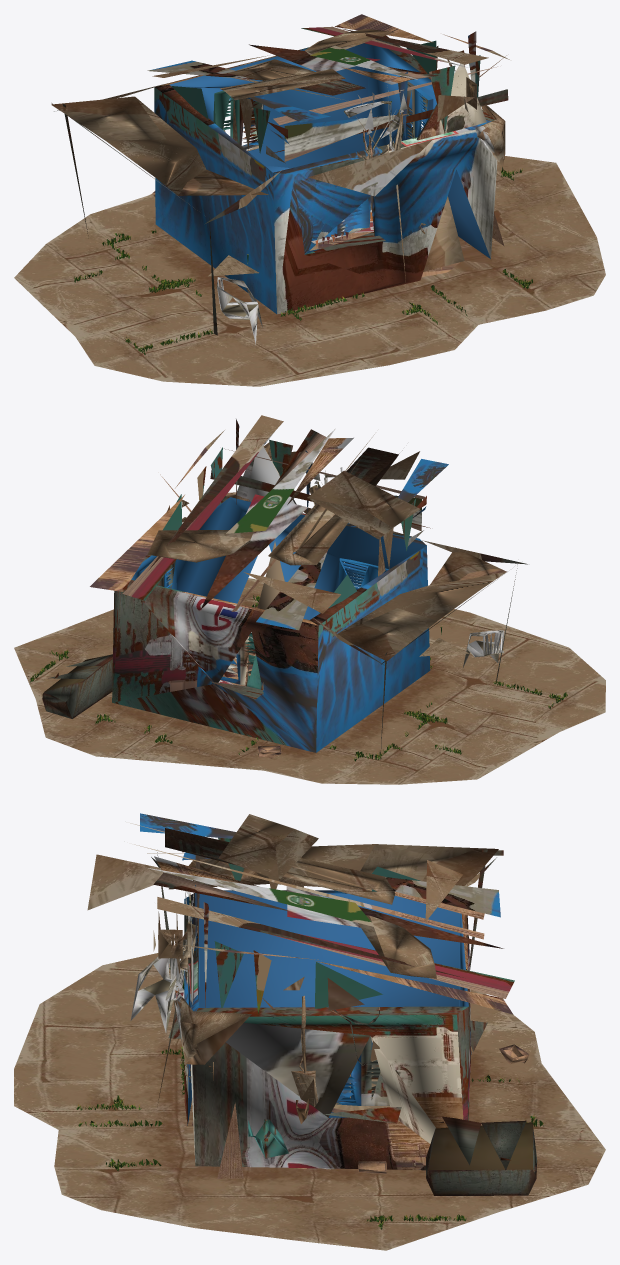
Rendered from tarp_shack.glb.
The picture shows the model from 3 angles, top to bottom: view 1: azimuth 30°, elevation 25°; view 2: azimuth 150°, elevation 25°; view 3: azimuth 270°, elevation 25°; orthographic projection. The views are drawn at different scales.
Visible parts, largest first — view 1: tarp_shack; view 2: tarp_shack; view 3: tarp_shack.
Boxes of the visible parts, <box> form: tarp_shack: <box>14,14,605,386</box>; tarp_shack: <box>14,415,605,784</box>; tarp_shack: <box>14,813,605,1250</box>.
Size of the model in its own units: 6.62 by 2.66 by 5.43.
3 materials, 3 textured.
